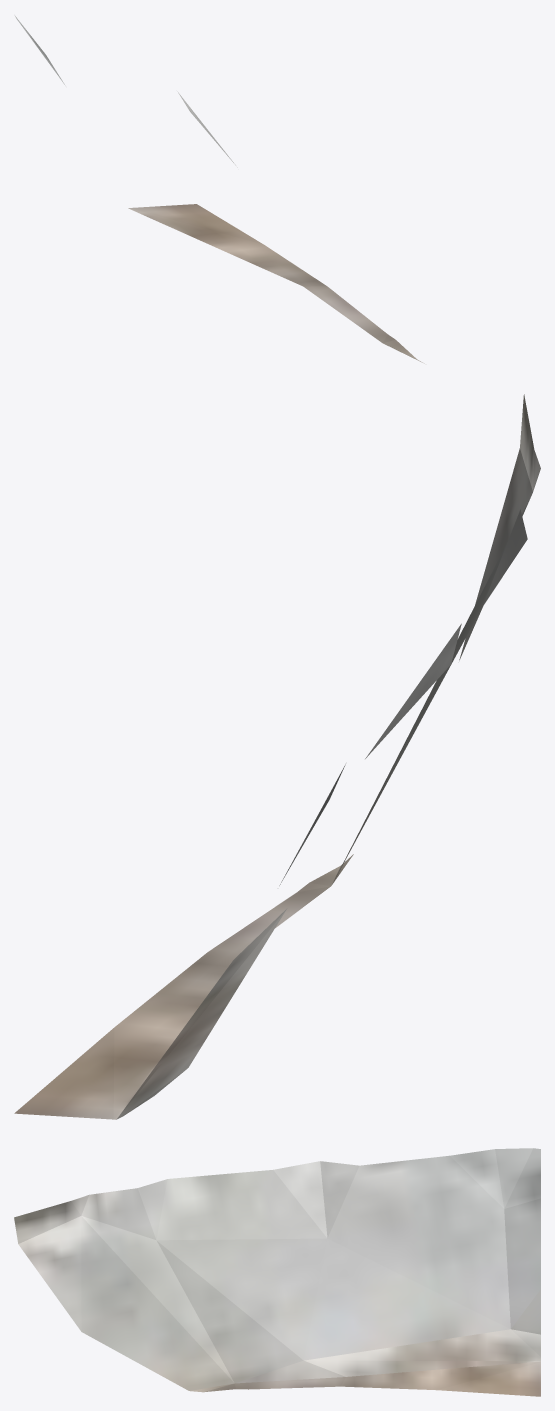
3 views of the same model, one above another, from view 1: azimuth 30°, elevation 25°; view 2: azimuth 150°, elevation 25°; view 3: azimuth 270°, elevation 25° (orthographic). The views are drawn at different scales.
Size of the model in its own units: 0.1994 by 0.2408 by 0.6411.
1 material, 1 textured.
